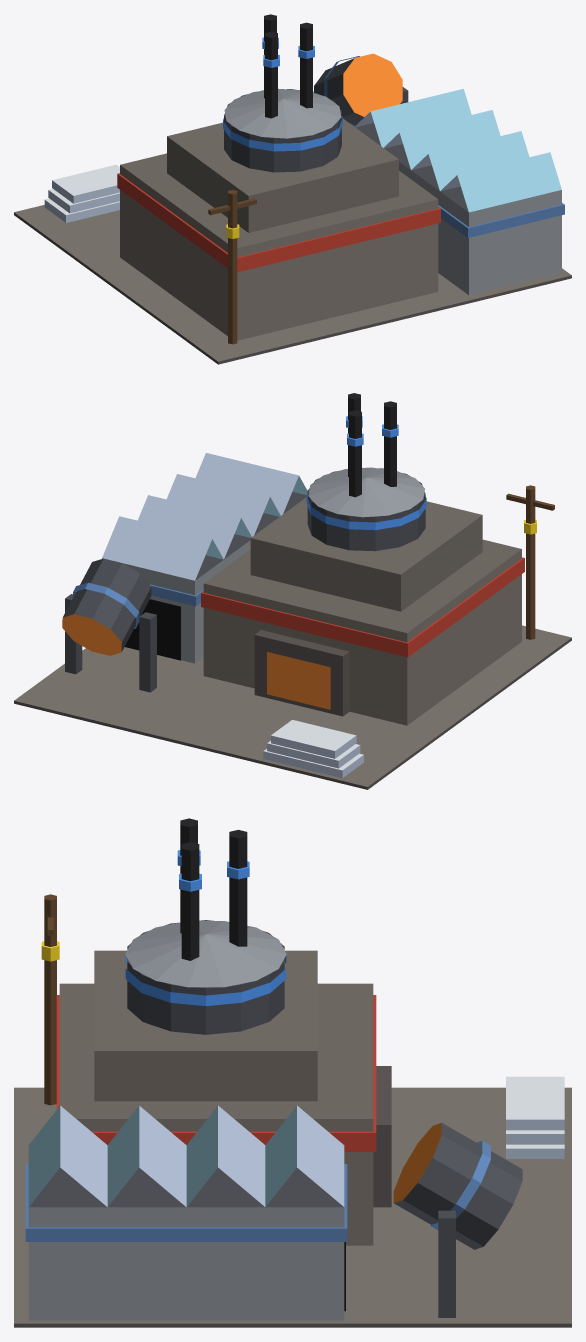
File: smelter_3.obj
The picture shows the model from 3 angles, top to bottom: view 1: azimuth 30°, elevation 25°; view 2: azimuth 150°, elevation 25°; view 3: azimuth 270°, elevation 25°; orthographic projection. The views are drawn at different scales.
Bounding box in the file's own units: 3.8 × 2.61 × 3.8.
